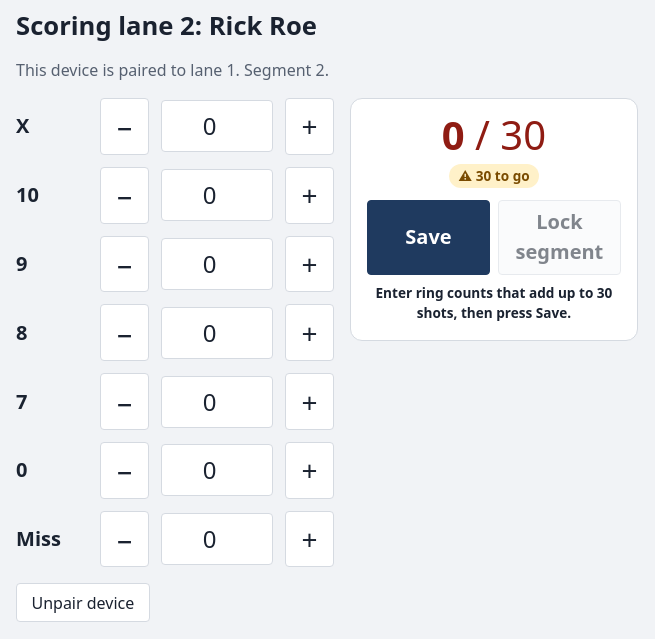
Test case: Scorer › keeps unsaved ring counts when the session updates
Click the button named "Increase X" at (309, 126), box [285,98,334,155]
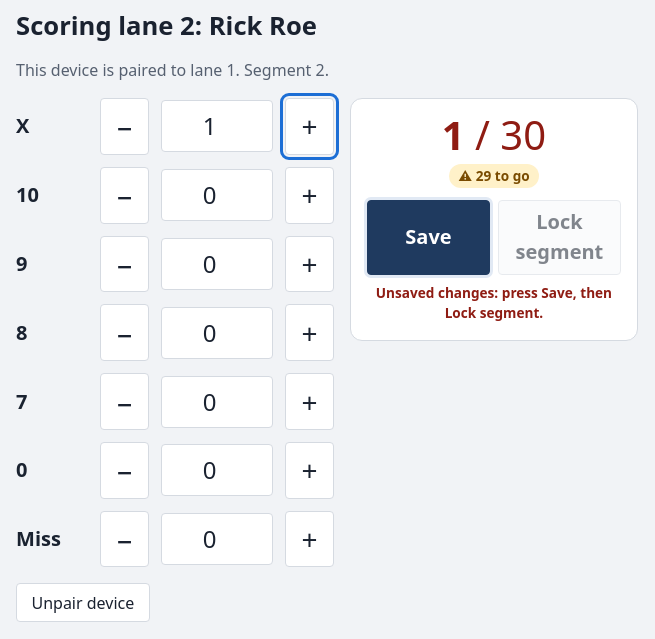
Expected: the number field named "X count" holds "1", [161,100,273,152]
